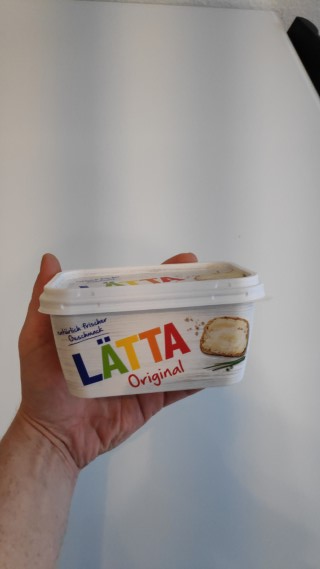laetta: (35, 257, 279, 399)
